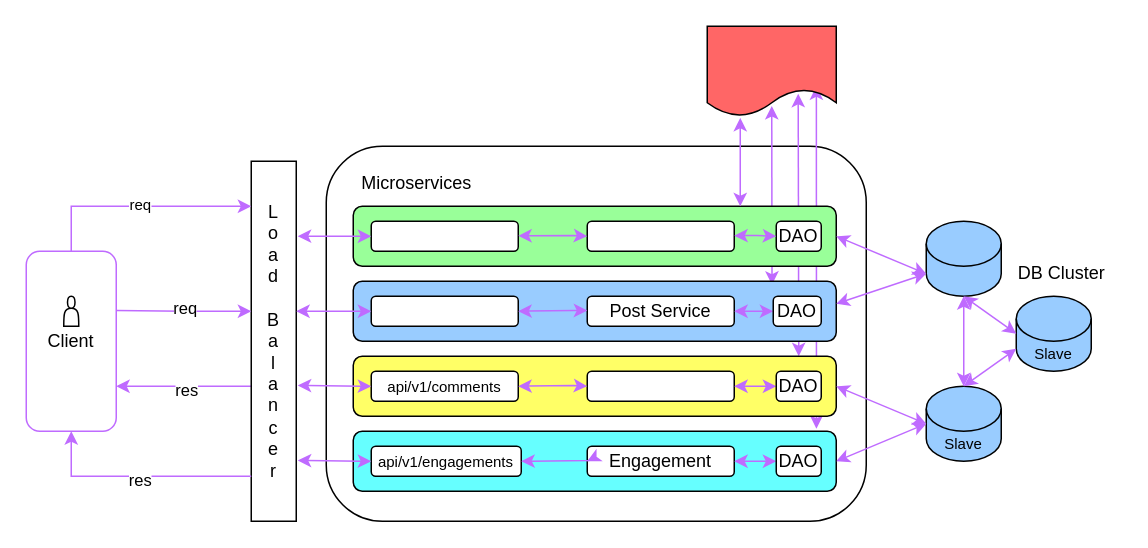
The diagram is 1148 pixels wide and 548 high, and some of its shapes have lost their labels. The box of each missing label's shape, as (x1, y1, x2, y2) in pixels:
api/v1/posts: (370, 295, 518, 326)
api/v1/users: (370, 220, 518, 251)
Cache: (706, 25, 836, 116)
Comment Service: (586, 370, 734, 401)
Master: (925, 220, 1001, 296)
User Service: (586, 220, 734, 251)
